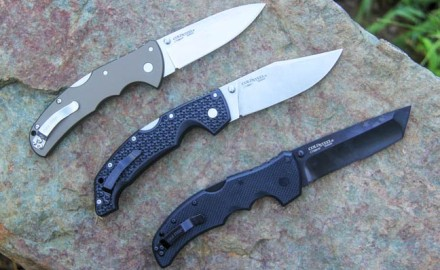knife: (289, 101, 415, 189), (215, 46, 345, 123), (148, 1, 269, 73)
